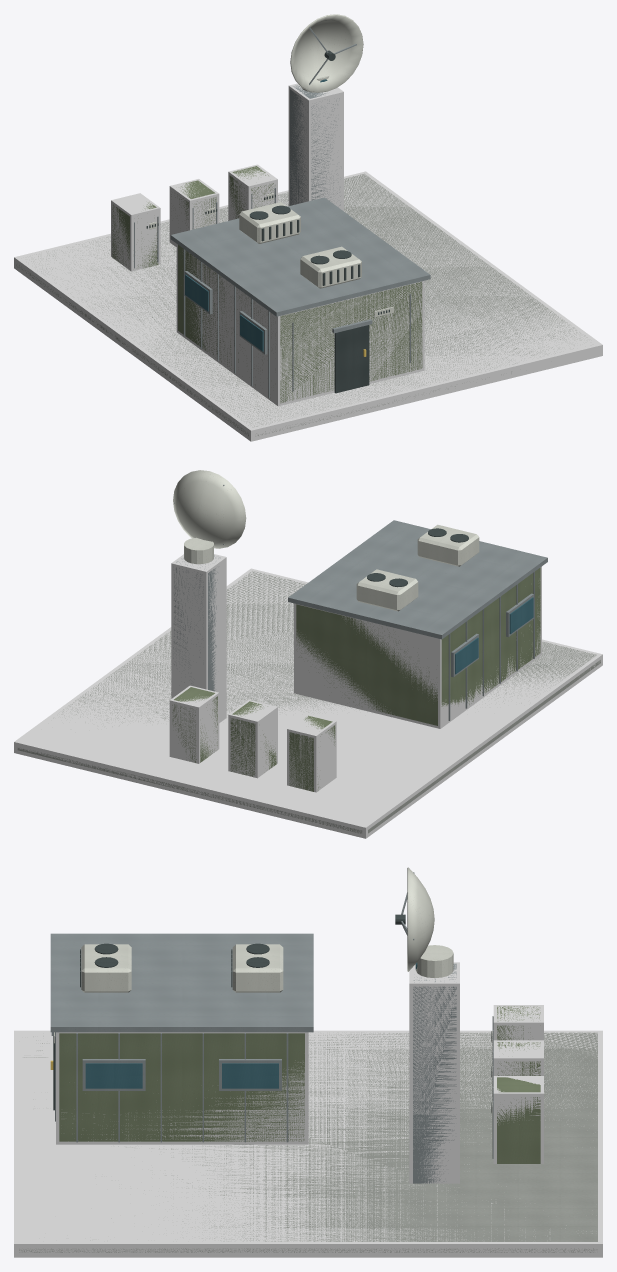
File: CoastalSensorPost.fbx
The picture shows the model from 3 angles, top to bottom: view 1: azimuth 30°, elevation 25°; view 2: azimuth 150°, elevation 25°; view 3: azimuth 270°, elevation 25°; orthographic projection. The views are drawn at different scales.
Visible parts, largest first — view 1: COL_Static, LOD0; view 2: COL_Static, LOD0; view 3: LOD0, COL_Static.
Part boxes in pixels (x1=…): COL_Static: x1=14, y1=83, x2=602, y2=441; LOD0: x1=16, y1=14, x2=587, y2=436; COL_Static: x1=14, y1=554, x2=602, y2=838; LOD0: x1=17, y1=470, x2=600, y2=833; LOD0: x1=19, y1=867, x2=597, y2=1252; COL_Static: x1=14, y1=962, x2=602, y2=1257.
Size of what is drawn, in the model's own units: 1200 by 825 by 1400.
